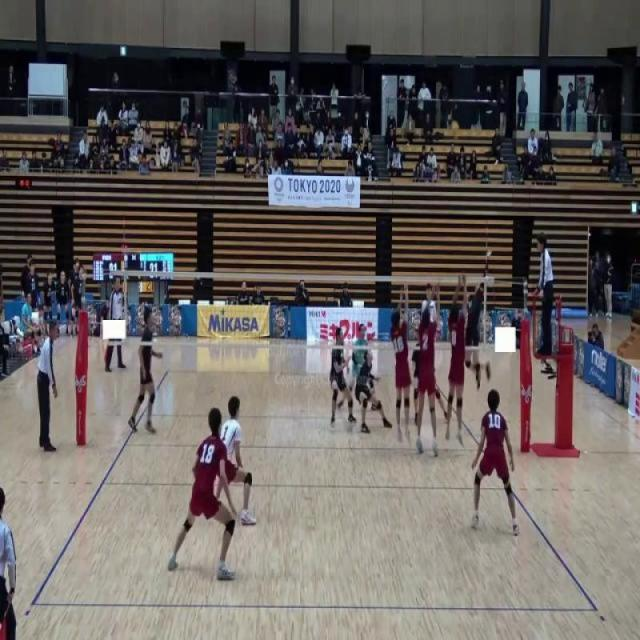volleyball: (452, 120, 459, 133)
